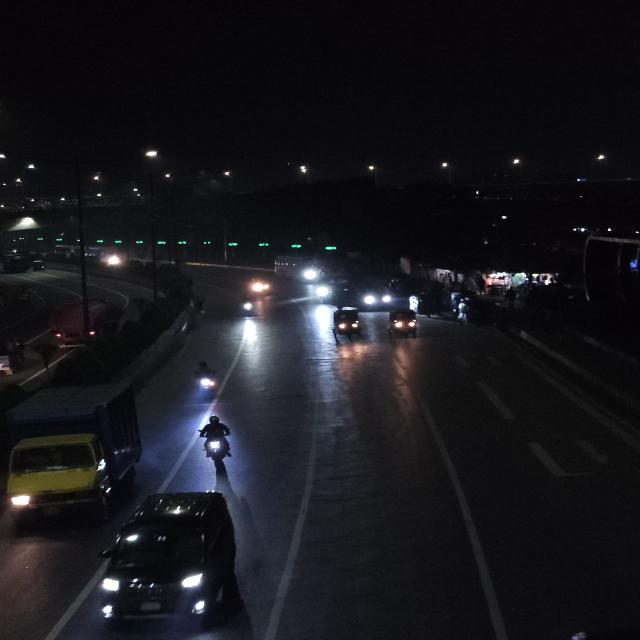bus: (272, 250, 321, 286)
car: (95, 487, 246, 638)
cng: (326, 304, 367, 342), (385, 306, 421, 340), (455, 300, 496, 324)
motorcycle: (196, 414, 239, 472), (186, 359, 222, 403), (236, 290, 257, 320)
truck: (5, 378, 144, 520), (41, 294, 120, 352)
